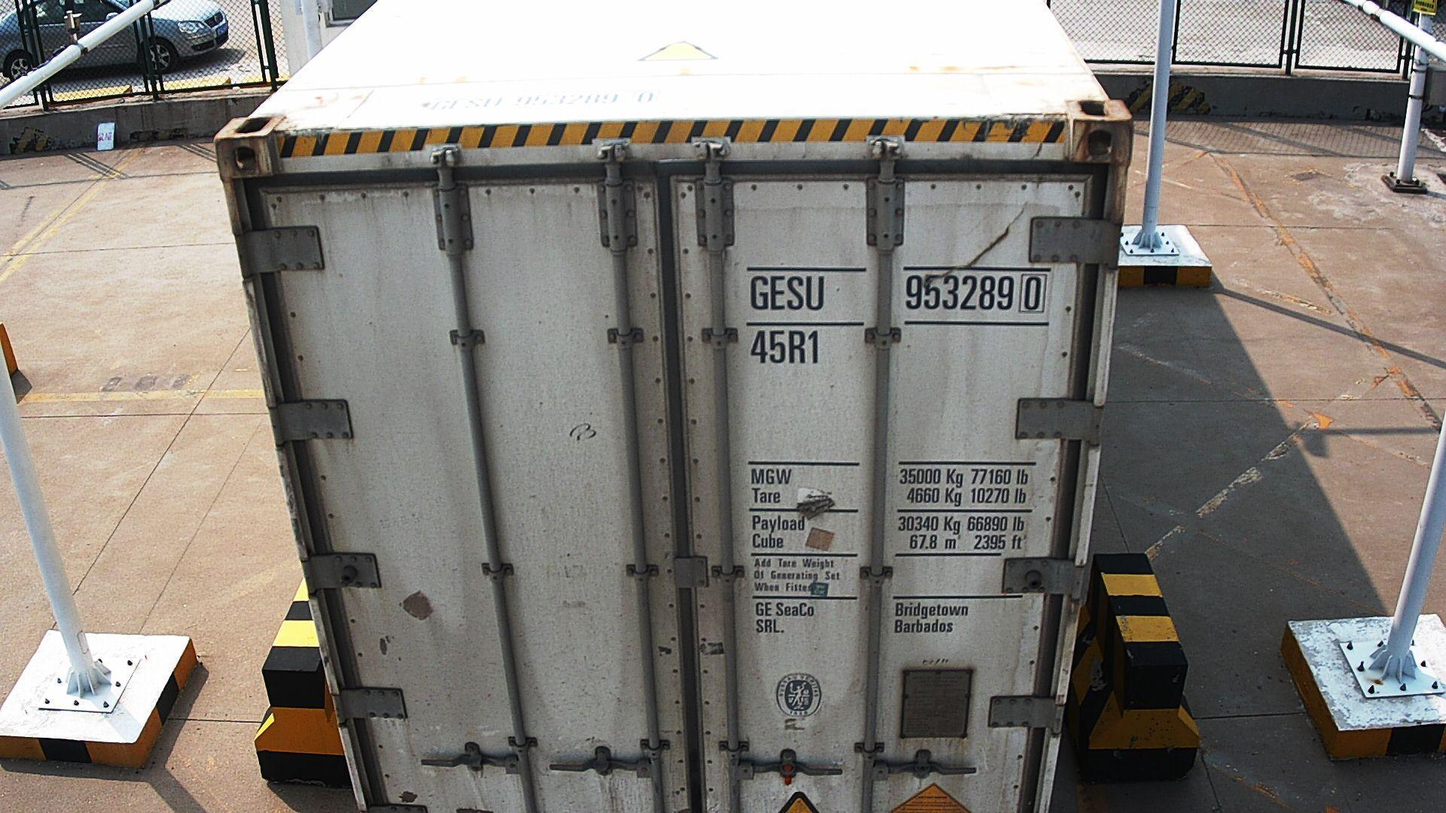container-numbers: (742, 270, 1049, 319), (749, 330, 823, 370)
